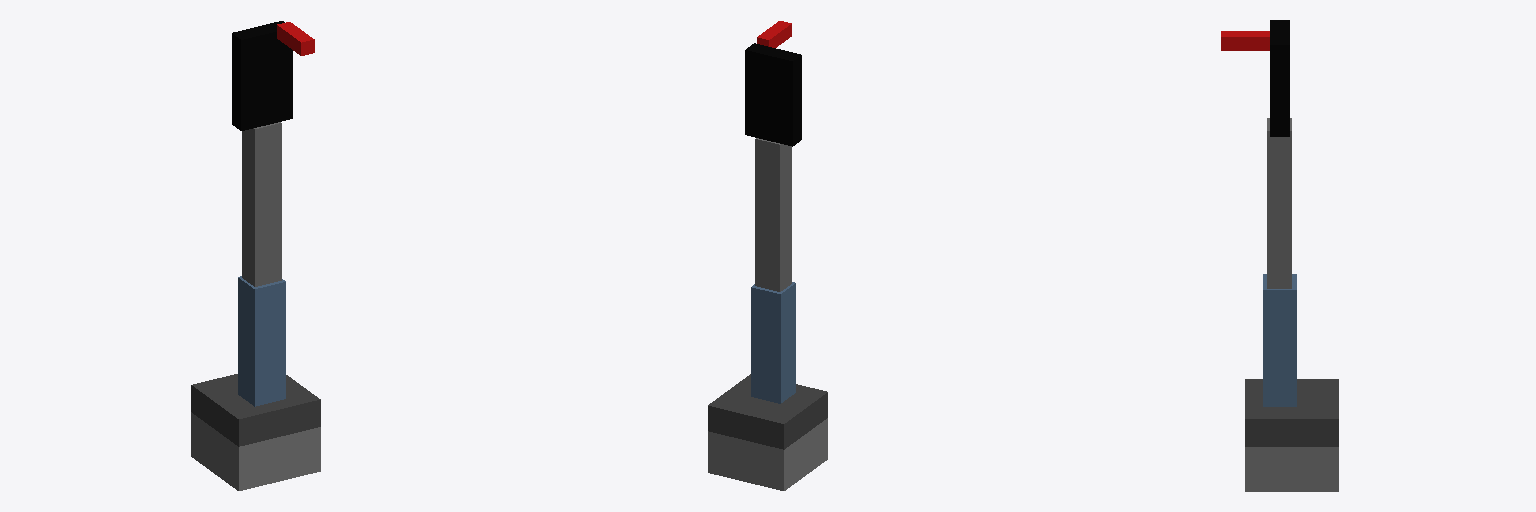
URDF robot description (packing_robot_motor_aligned):
<?xml version="1.0"?>
<robot name="packing_robot_motor_aligned">

  <!-- ====================================================== -->
  <!-- BASE LINK -->
  <!-- ====================================================== -->
  <link name="base_link">
    <visual>
      <origin xyz="0 0 0.0325"/>
      <geometry>
        <box size="0.125 0.125 0.065"/>
      </geometry>
      <material name="gray">
        <color rgba="0.5 0.5 0.5 1.0"/>
      </material>
    </visual>
    <collision>
      <origin xyz="0 0 0.0325"/>
      <geometry>
        <box size="0.125 0.125 0.065"/>
      </geometry>
    </collision>
    <inertial>
      <origin xyz="0 0 0.0325"/>
      <mass value="0.32"/>
      <inertia ixx="0.001" ixy="0" ixz="0" iyy="0.001" iyz="0" izz="0.001"/>
    </inertial>
  </link>

  <!-- ====================================================== -->
  <!-- ID1 BASE YAW CHILD LINK -->
  <!-- ====================================================== -->
  <link name="link1_shoulder_mount">
    <visual>
      <origin xyz="0 0 0.02"/>
      <geometry>
        <box size="0.125 0.125 0.04"/>
      </geometry>
      <material name="dark_gray">
        <color rgba="0.3 0.3 0.3 1.0"/>
      </material>
    </visual>
    <collision>
      <origin xyz="0 0 0.02"/>
      <geometry>
        <box size="0.125 0.125 0.04"/>
      </geometry>
    </collision>
    <inertial>
      <origin xyz="0 0 0.02"/>
      <mass value="0.39"/>
      <inertia ixx="0.001" ixy="0" ixz="0" iyy="0.001" iyz="0" izz="0.001"/>
    </inertial>
  </link>

  <joint name="joint1_base_yaw_id1" type="revolute">
    <parent link="base_link"/>
    <child link="link1_shoulder_mount"/>
    <origin xyz="0 0 0.065"/>
    <axis xyz="0 0 1"/>
    <limit lower="-3.14159" upper="3.14159" effort="20" velocity="2.0"/>
  </joint>

  <!-- ====================================================== -->
  <!-- ID2 / ID3 SHOULDER PAIR LINK -->
  <!-- 실제 Shoulder -> Elbow 길이 약 171 mm 반영 -->
  <!-- ====================================================== -->
  <link name="link2_upper_arm">
    <visual>
      <origin xyz="0 0 0.0855"/>
      <geometry>
        <box size="0.0485 0.045 0.171"/>
      </geometry>
      <material name="blue_gray">
        <color rgba="0.35 0.45 0.55 1.0"/>
      </material>
    </visual>
    <collision>
      <origin xyz="0 0 0.0855"/>
      <geometry>
        <box size="0.0485 0.045 0.171"/>
      </geometry>
    </collision>
    <inertial>
      <origin xyz="0 0 0.0855"/>
      <mass value="0.31"/>
      <inertia ixx="0.002" ixy="0" ixz="0" iyy="0.002" iyz="0" izz="0.001"/>
    </inertial>
  </link>

  <joint name="joint23_shoulder_pair_id2_id3" type="revolute">
    <parent link="link1_shoulder_mount"/>
    <child link="link2_upper_arm"/>
    <origin xyz="0 -0.016 0.04"/>
    <axis xyz="1 0 0"/>
    <limit lower="-1.5708" upper="1.5708" effort="15" velocity="1.5"/>
  </joint>

  <!-- ====================================================== -->
  <!-- ID4 / ID5 ELBOW PAIR LINK -->
  <!-- 실제 Elbow -> Wrist 길이 약 230 mm 반영 -->
  <!-- ====================================================== -->
  <link name="link45_forearm">
    <visual>
      <origin xyz="0 0 0.115"/>
      <geometry>
        <box size="0.041 0.033 0.230"/>
      </geometry>
      <material name="steel">
        <color rgba="0.45 0.45 0.45 1.0"/>
      </material>
    </visual>
    <collision>
      <origin xyz="0 0 0.115"/>
      <geometry>
        <box size="0.041 0.033 0.230"/>
      </geometry>
    </collision>
    <inertial>
      <origin xyz="0 0 0.115"/>
      <mass value="0.54"/>
      <inertia ixx="0.004" ixy="0" ixz="0" iyy="0.004" iyz="0" izz="0.001"/>
    </inertial>
  </link>

  <joint name="joint45_elbow_pair_id4_id5" type="revolute">
    <parent link="link2_upper_arm"/>
    <child link="link45_forearm"/>
    <origin xyz="0 0 0.171"/>
    <axis xyz="1 0 0"/>
    <limit lower="-1.5708" upper="1.5708" effort="15" velocity="1.5"/>
  </joint>

  <!-- ====================================================== -->
  <!-- ID6 WRIST LINK -->
  <!-- Wrist -> TCP 근처 길이 약 133 mm 반영 -->
  <!-- ====================================================== -->
  <link name="link6_wrist">
    <visual>
      <origin xyz="0 0 0.0665"/>
      <geometry>
        <box size="0.078 0.026 0.133"/>
      </geometry>
      <material name="black">
        <color rgba="0.05 0.05 0.05 1.0"/>
      </material>
    </visual>
    <collision>
      <origin xyz="0 0 0.0665"/>
      <geometry>
        <box size="0.078 0.026 0.133"/>
      </geometry>
    </collision>
    <inertial>
      <origin xyz="0 0 0.0665"/>
      <mass value="0.08"/>
      <inertia ixx="0.001" ixy="0" ixz="0" iyy="0.001" iyz="0" izz="0.001"/>
    </inertial>
  </link>

  <joint name="joint6_wrist_id6" type="revolute">
    <parent link="link45_forearm"/>
    <child link="link6_wrist"/>
    <origin xyz="0 0 0.230"/>
    <axis xyz="1 0 0"/>
    <limit lower="-2.6" upper="2.6" effort="12" velocity="1.5"/>
  </joint>

  <!-- ====================================================== -->
  <!-- ID7 GRIPPER ROTATION / VACUUM GRIPPER LINK -->
  <!-- ====================================================== -->
  <link name="link7_gripper">
    <visual>
      <origin xyz="0 -0.0325 0"/>
      <geometry>
        <box size="0.02 0.065 0.02"/>
      </geometry>
      <material name="red">
        <color rgba="0.8 0.1 0.1 1.0"/>
      </material>
    </visual>
    <collision>
      <origin xyz="0 -0.0325 0"/>
      <geometry>
        <box size="0.02 0.065 0.02"/>
      </geometry>
    </collision>
    <inertial>
      <origin xyz="0 -0.0325 0"/>
      <mass value="0.03"/>
      <inertia ixx="0.0002" ixy="0" ixz="0" iyy="0.0002" iyz="0" izz="0.0002"/>
    </inertial>
  </link>

  <joint name="joint7_gripper_rotation_id7" type="revolute">
    <parent link="link6_wrist"/>
    <child link="link7_gripper"/>
    <origin xyz="0.025 -0.013 0.133"/>
    <axis xyz="0 1 0"/>
    <limit lower="-3.14159" upper="3.14159" effort="20" velocity="2.0"/>
  </joint>

</robot>

--- Facts derived from the render (not from the file) ---
3 views of the same robot in one strip: view 1: azimuth 30°, elevation 25°; view 2: azimuth 150°, elevation 25°; view 3: azimuth 270°, elevation 25° (orthographic).
Model packing_robot_motor_aligned with 6 links and 5 joints (5 revolute), rooted at base_link, posed all joints at 0.
Visible links, largest first — view 1: link45_forearm, base_link, link1_shoulder_mount, link2_upper_arm, link6_wrist, link7_gripper; view 2: link45_forearm, link1_shoulder_mount, link6_wrist, link2_upper_arm, base_link, link7_gripper; view 3: link1_shoulder_mount, base_link, link2_upper_arm, link45_forearm, link6_wrist, link7_gripper.
Boxes of the visible links, left/top/right/bottom form: link45_forearm: left=242, top=122, right=281, bottom=286; base_link: left=191, top=412, right=320, bottom=490; link1_shoulder_mount: left=191, top=374, right=320, bottom=446; link2_upper_arm: left=238, top=276, right=285, bottom=406; link6_wrist: left=232, top=21, right=292, bottom=130; link7_gripper: left=277, top=22, right=314, bottom=55; link45_forearm: left=755, top=138, right=791, bottom=291; link1_shoulder_mount: left=708, top=374, right=827, bottom=449; link6_wrist: left=745, top=43, right=801, bottom=146; link2_upper_arm: left=751, top=282, right=795, bottom=403; base_link: left=708, top=418, right=827, bottom=490; link7_gripper: left=757, top=21, right=791, bottom=47; link1_shoulder_mount: left=1245, top=379, right=1338, bottom=446; base_link: left=1245, top=447, right=1338, bottom=491; link2_upper_arm: left=1263, top=274, right=1296, bottom=406; link45_forearm: left=1267, top=118, right=1291, bottom=288; link6_wrist: left=1270, top=20, right=1289, bottom=136; link7_gripper: left=1221, top=31, right=1269, bottom=50.
Bounding box of the posed robot: 0.125 × 0.1565 × 0.649 m (x, y, z).
Geometry: primitives only (box / cylinder / sphere), no mesh files.
